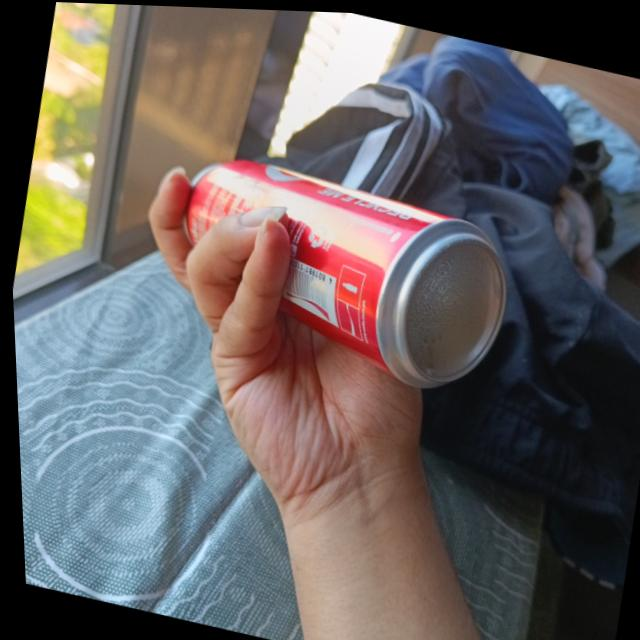coke: (159, 145, 523, 400)
